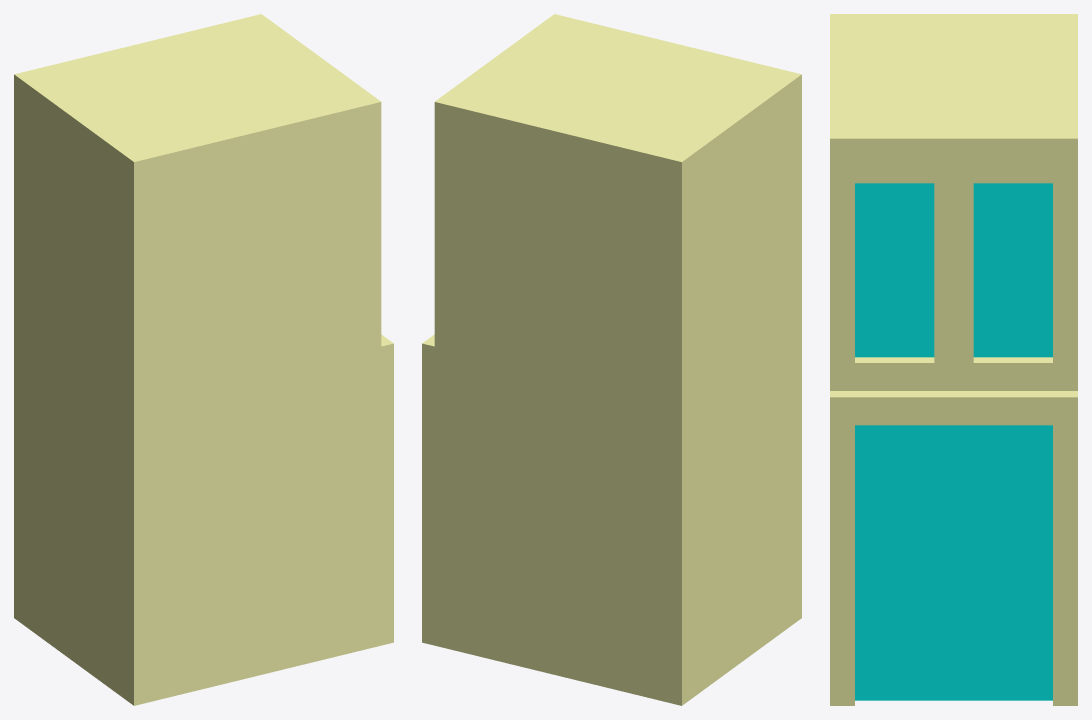
File: Building 1.fbx
3 views of the same model, side by side, from view 1: azimuth 30°, elevation 25°; view 2: azimuth 150°, elevation 25°; view 3: azimuth 270°, elevation 25° (orthographic). The views are drawn at different scales.
Parts seen in each view (by area): view 1: thin_building; view 2: thin_building; view 3: thin_building.
Boxes of the visible parts, x1,y1,x2,y2 form: thin_building: (14, 14, 393, 705); thin_building: (422, 14, 801, 705); thin_building: (830, 14, 1077, 705).
Size of the model in its own units: 3.02 by 6.04 by 2.42.
